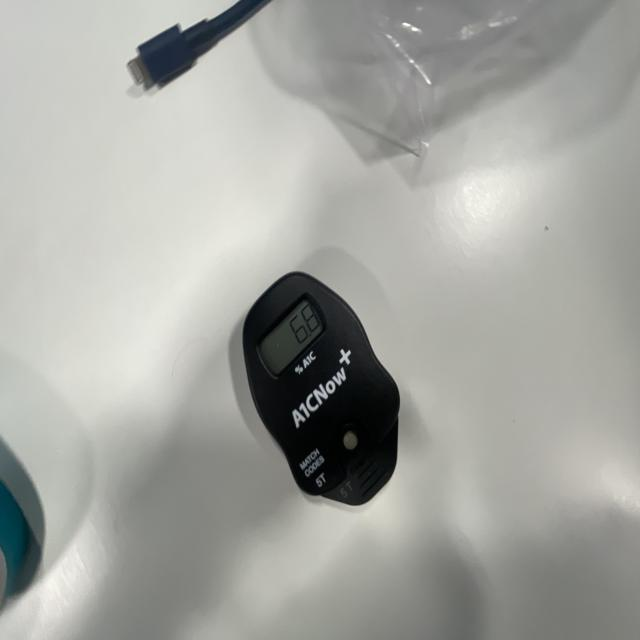hba1c: (228, 272, 403, 509)
